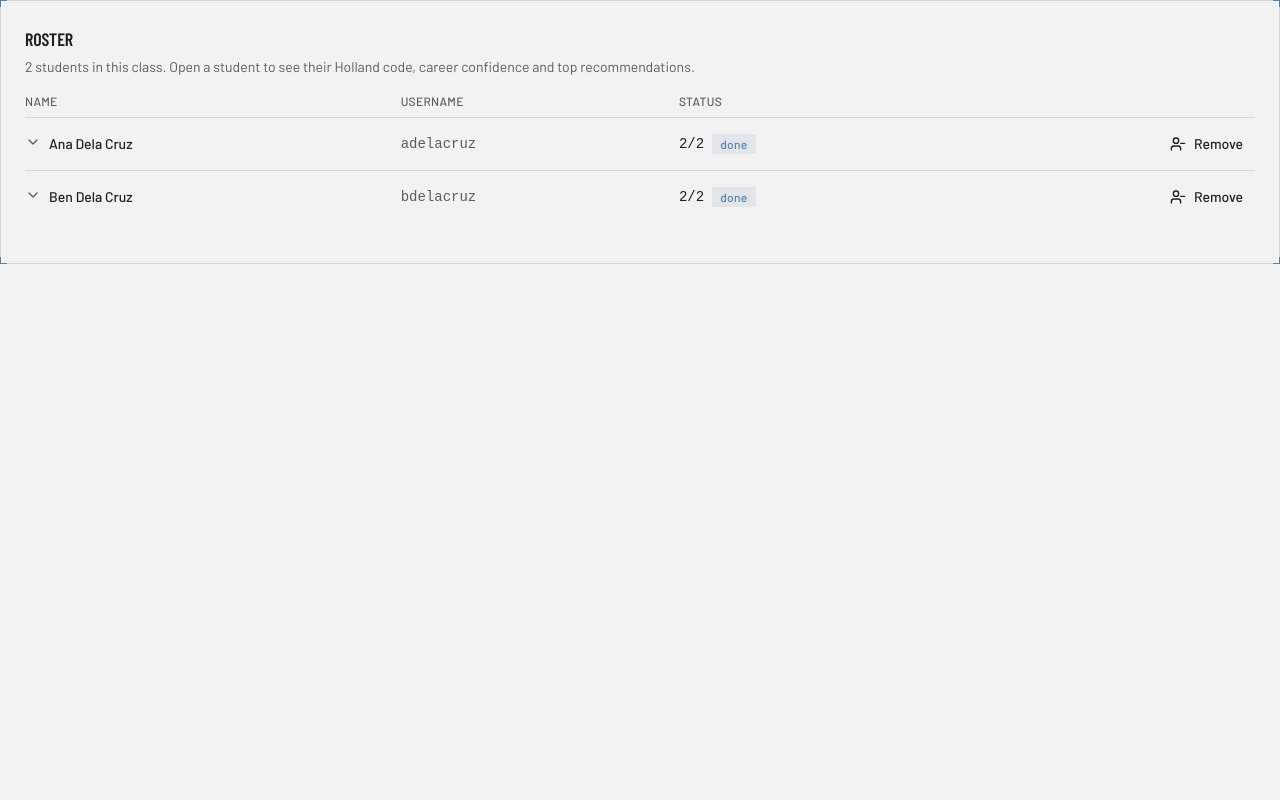
it: RosterTable › only ever has one student open, so scores from two students are never side by side
The image size is (1280, 800).
Click the button "Ana Dela Cruz": [79, 144] box x1=25 y1=134 x2=132 y2=154
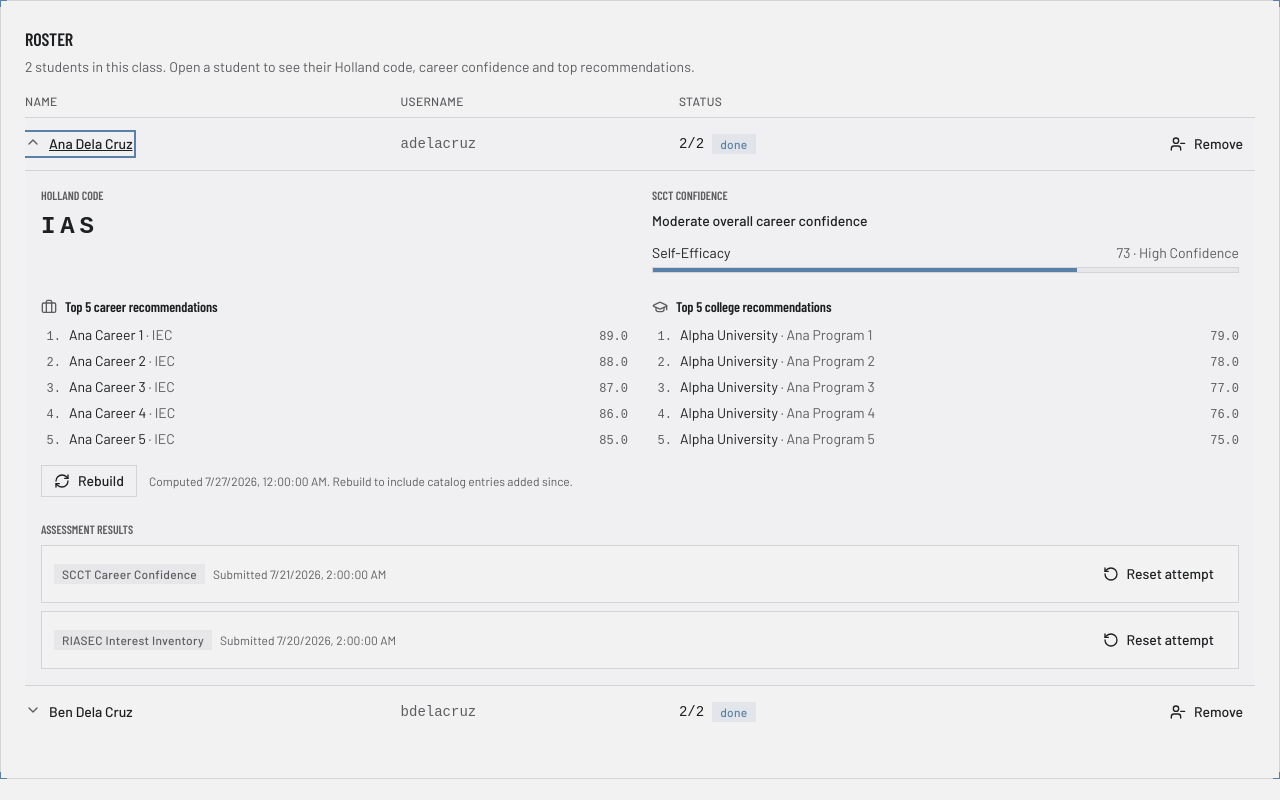
Now the text "Ana Career 1" is shown, box x1=69 y1=326 x2=143 y2=343
Click the button "Ben Dela Cruz": [79, 712] box x1=25 y1=702 x2=133 y2=722
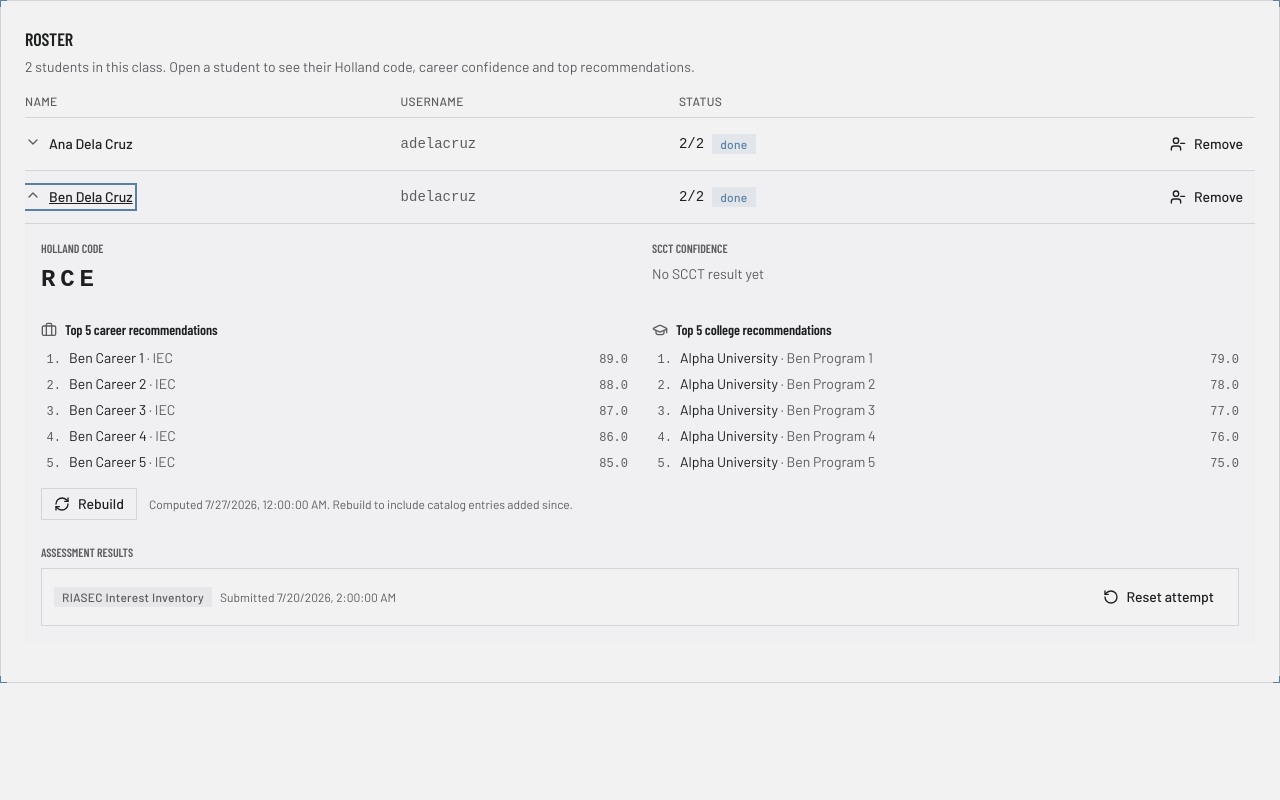
Now the text "Ben Career 1" is shown, box x1=69 y1=349 x2=144 y2=366
Now the text "Ana Career 1" is gone
